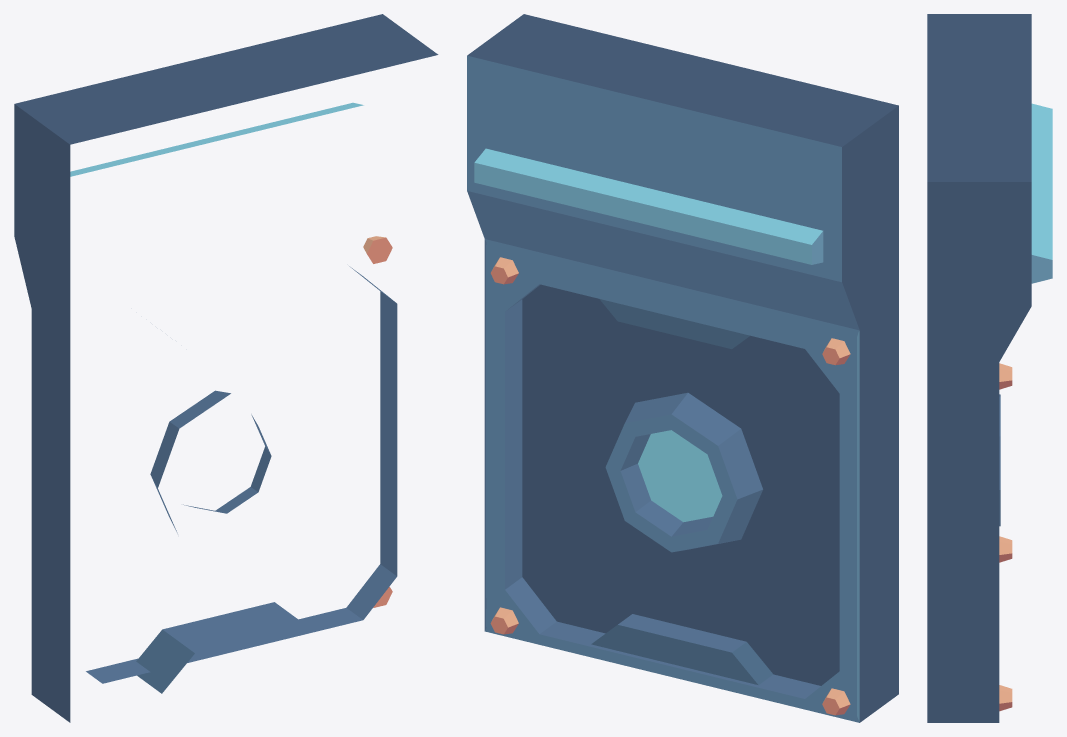
File: wall-b.glb
3 renders of one model, left to right at view 1: azimuth 30°, elevation 25°; view 2: azimuth 150°, elevation 25°; view 3: azimuth 270°, elevation 25°, orthographic. The views are drawn at different scales.
Parts seen in each view (by area): view 1: wallSeg-a.001; view 2: wallSeg-a.001; view 3: wallSeg-a.001.
Boxes of the visible parts, x1,y1,x2,y2 form: wallSeg-a.001: (14, 14, 438, 722); wallSeg-a.001: (467, 14, 898, 722); wallSeg-a.001: (927, 14, 1052, 722).
Bounding box in the file's own units: 5 × 7.5 × 1.58.
1 material, 1 textured.
